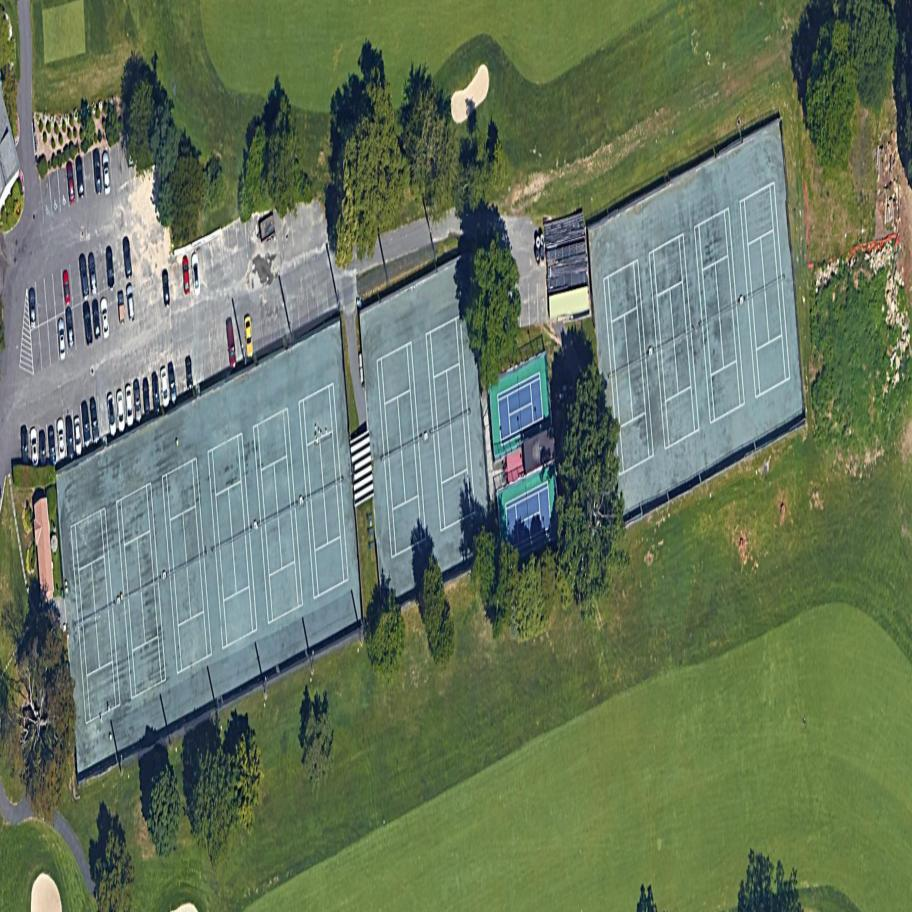small-vehicle: (225, 317, 237, 370), (89, 397, 101, 447), (243, 313, 255, 359), (105, 246, 116, 294), (79, 253, 90, 301), (106, 393, 118, 437), (80, 401, 91, 447), (82, 302, 94, 344), (115, 388, 126, 433), (190, 253, 201, 296), (88, 253, 98, 299), (100, 297, 110, 342), (47, 424, 57, 469), (66, 163, 76, 207), (65, 415, 75, 459), (29, 425, 39, 469), (125, 384, 135, 428), (93, 151, 102, 199), (73, 414, 83, 457), (151, 375, 161, 417), (161, 270, 171, 312), (160, 366, 170, 408), (184, 355, 195, 393), (126, 282, 136, 323), (168, 363, 178, 404), (57, 316, 66, 361), (102, 152, 111, 196), (65, 311, 75, 349), (181, 256, 190, 298), (91, 297, 100, 339), (134, 381, 143, 423), (62, 269, 71, 310), (57, 418, 66, 459), (123, 243, 133, 279), (76, 161, 85, 200), (142, 377, 151, 415), (39, 430, 47, 468), (21, 429, 29, 467), (29, 291, 36, 330), (117, 291, 125, 325), (540, 237, 545, 262), (536, 237, 539, 262)
